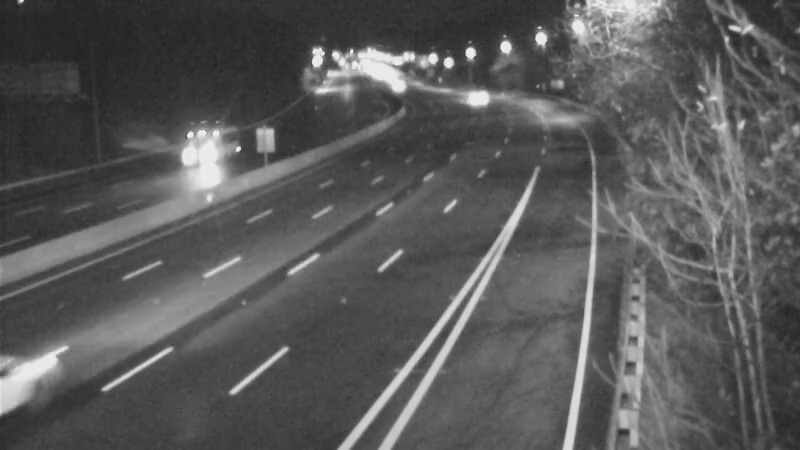vehicle: (1, 327, 98, 437), (160, 118, 240, 198), (450, 72, 500, 122)
